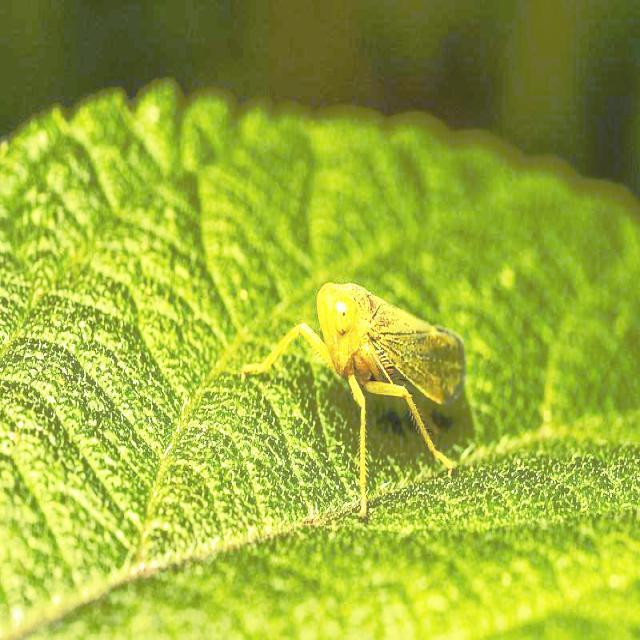green-leafhopper: (254, 274, 472, 501)
